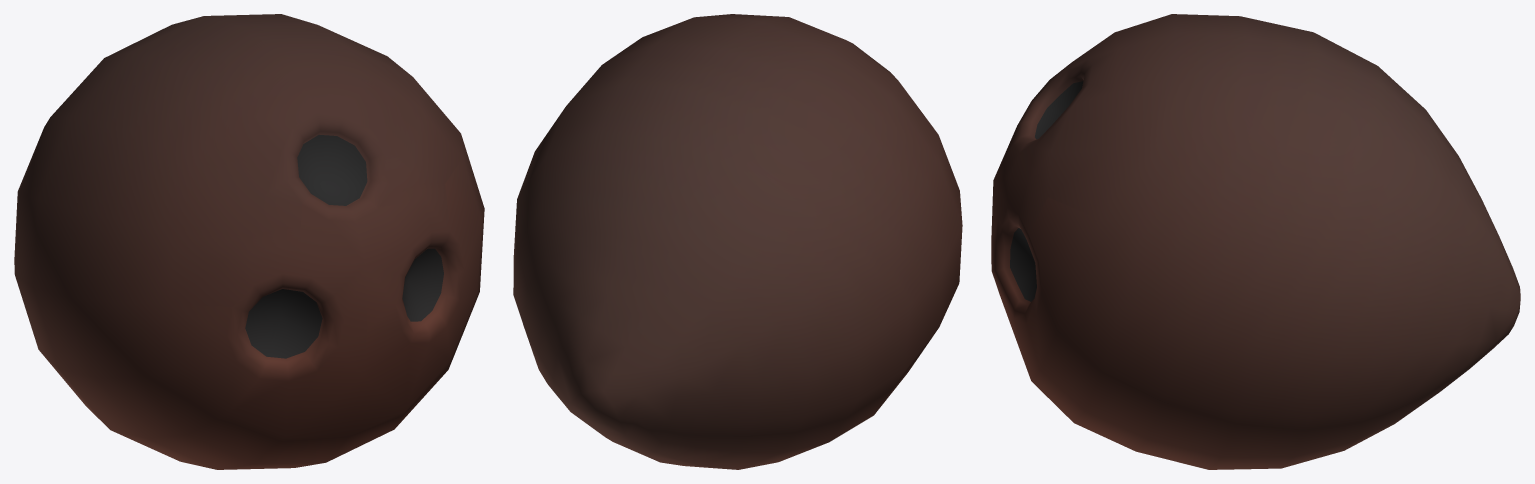
Rendered from coconut_001.fbx.
3 renders of one model, left to right at view 1: azimuth 30°, elevation 25°; view 2: azimuth 150°, elevation 25°; view 3: azimuth 270°, elevation 25°, orthographic. The views are drawn at different scales.
Visible parts, largest first — view 1: coconut_001; view 2: coconut_001; view 3: coconut_001.
Part boxes in pixels (<box>): coconut_001: <box>14,14,484,469</box>; coconut_001: <box>513,14,962,469</box>; coconut_001: <box>991,14,1520,469</box>.
Bounding box in the file's own units: 11.54 × 13.47 × 11.71.
